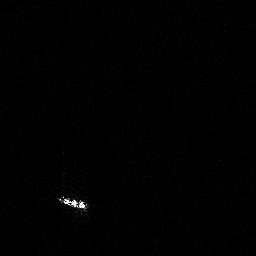ship: (55, 192, 91, 212)
